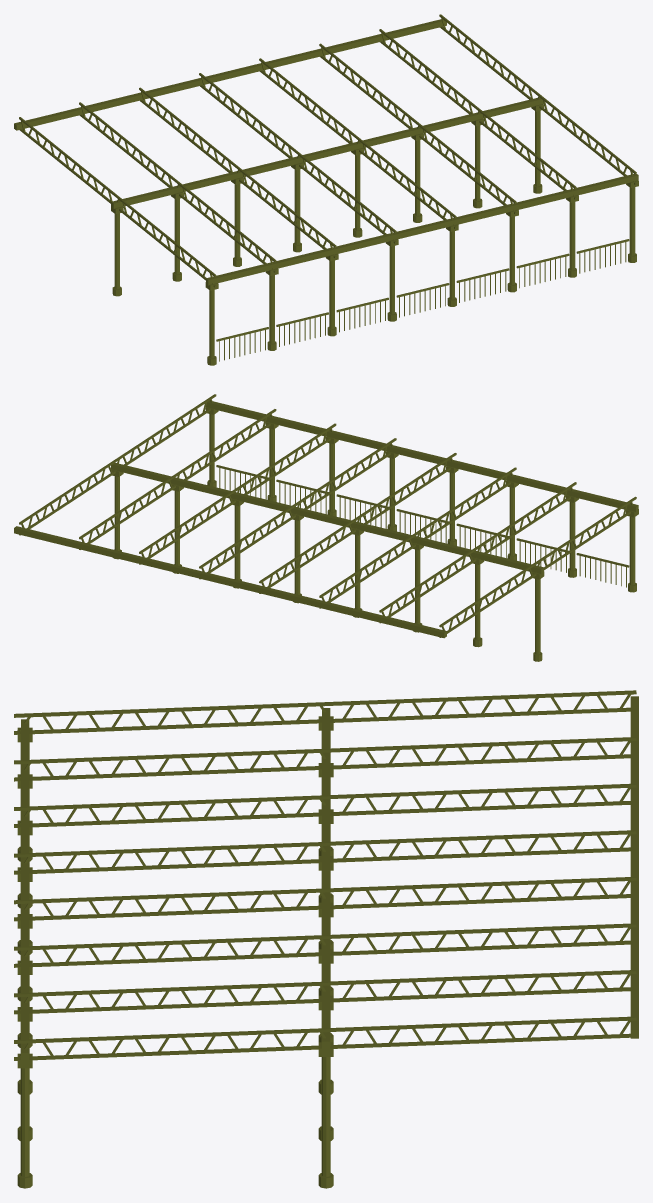
The model's file is SM_MarquesinaAdosada_v3_LOD0.fbx.
3 renders of one model, top to bottom at view 1: azimuth 30°, elevation 25°; view 2: azimuth 150°, elevation 25°; view 3: azimuth 270°, elevation 25°, orthographic. The views are drawn at different scales.
Parts seen in each view (by area): view 1: SM_marquesina_adosada_v3_LOD0; view 2: SM_marquesina_adosada_v3_LOD0; view 3: SM_marquesina_adosada_v3_LOD0.
Part boxes in pixels (x1,y1,x2,y2): SM_marquesina_adosada_v3_LOD0: (14, 14, 638, 365); SM_marquesina_adosada_v3_LOD0: (14, 394, 638, 661); SM_marquesina_adosada_v3_LOD0: (14, 690, 638, 1188).
Size of the model in its own units: 20.98 by 4.93 by 16.6.
